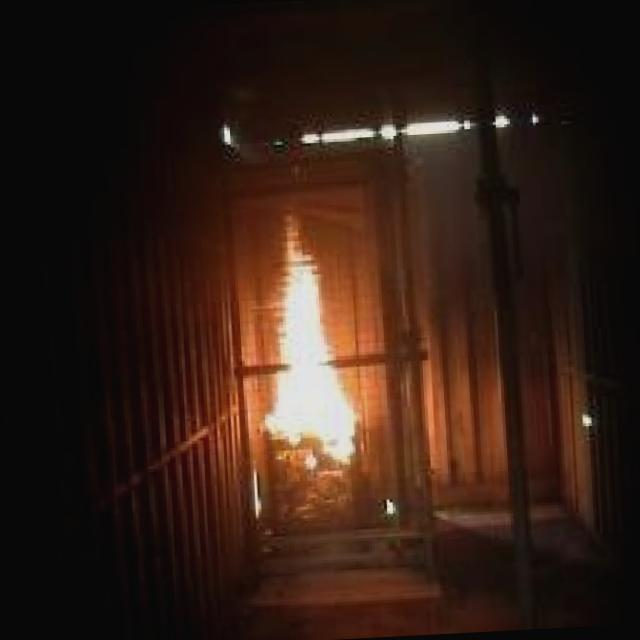fire: (227, 212, 373, 493)
